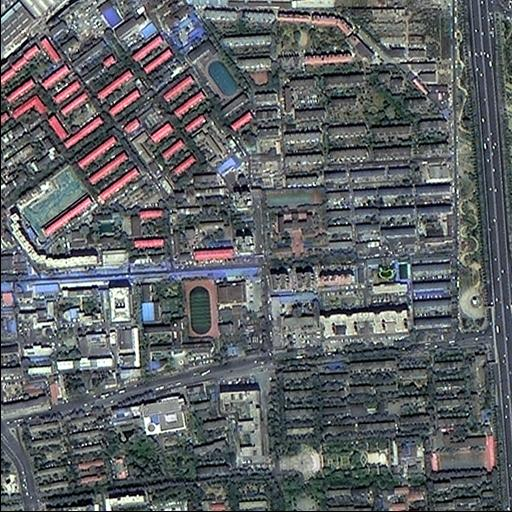school: (139, 279, 217, 376), (184, 35, 244, 102), (422, 429, 498, 479)
